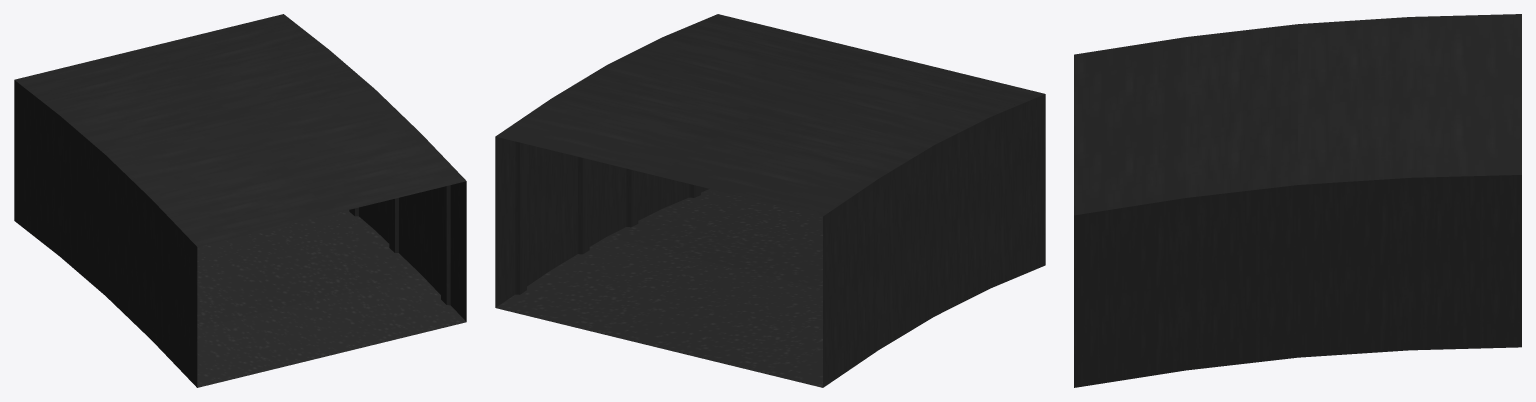
The model's file is SW_ENV_RailTunnel_Riser_B_Double_10m.fbx.
The picture shows the model from 3 angles, left to right: view 1: azimuth 30°, elevation 25°; view 2: azimuth 150°, elevation 25°; view 3: azimuth 270°, elevation 25°; orthographic projection. The views are drawn at different scales.
Parts seen in each view (by area): view 1: SW_ENV_RailTunnel_Riser_B_Double_10m; view 2: SW_ENV_RailTunnel_Riser_B_Double_10m; view 3: SW_ENV_RailTunnel_Riser_B_Double_10m.
Boxes of the visible parts, bbox=[...] form: SW_ENV_RailTunnel_Riser_B_Double_10m: bbox=[14, 14, 466, 387]; SW_ENV_RailTunnel_Riser_B_Double_10m: bbox=[495, 14, 1045, 387]; SW_ENV_RailTunnel_Riser_B_Double_10m: bbox=[1074, 14, 1521, 387].
Bounding box in the file's own units: 8.5 × 5.25 × 10.
